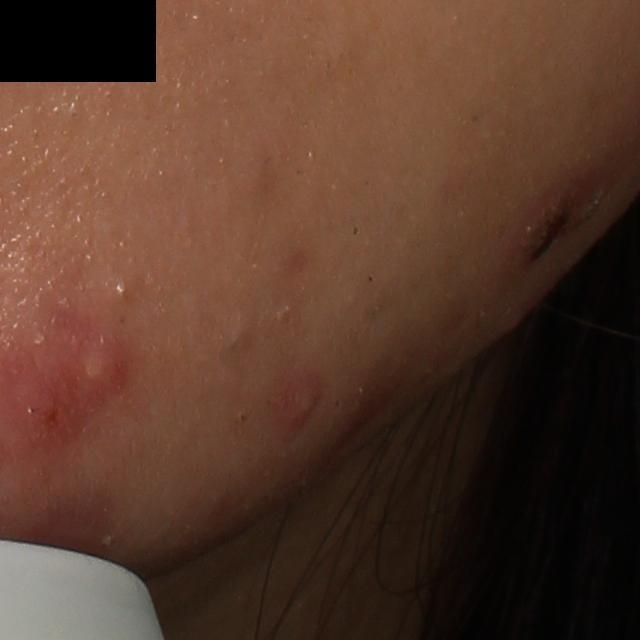comedo: (221, 313, 254, 360), (110, 276, 137, 302)
papule: (13, 377, 67, 439), (281, 379, 324, 433), (80, 340, 122, 393)
